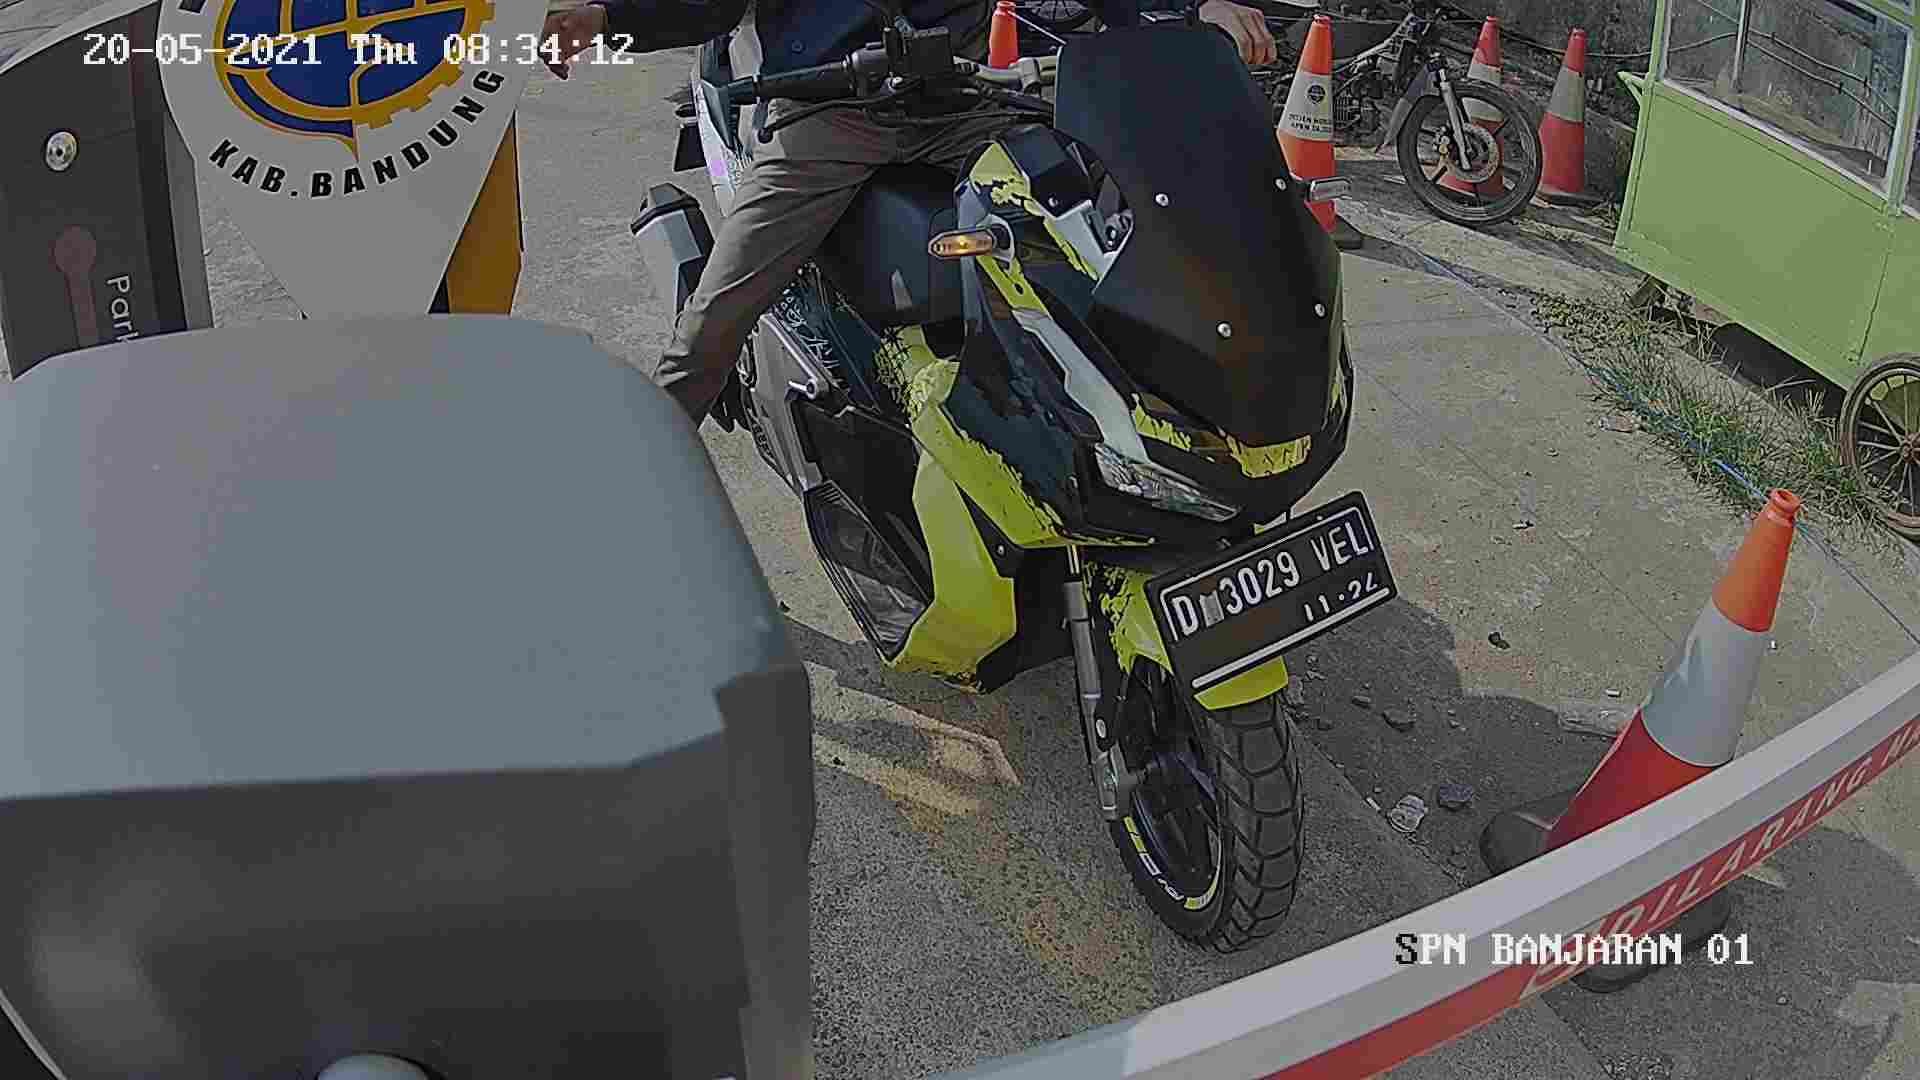motor: (649, 28, 1441, 915)
